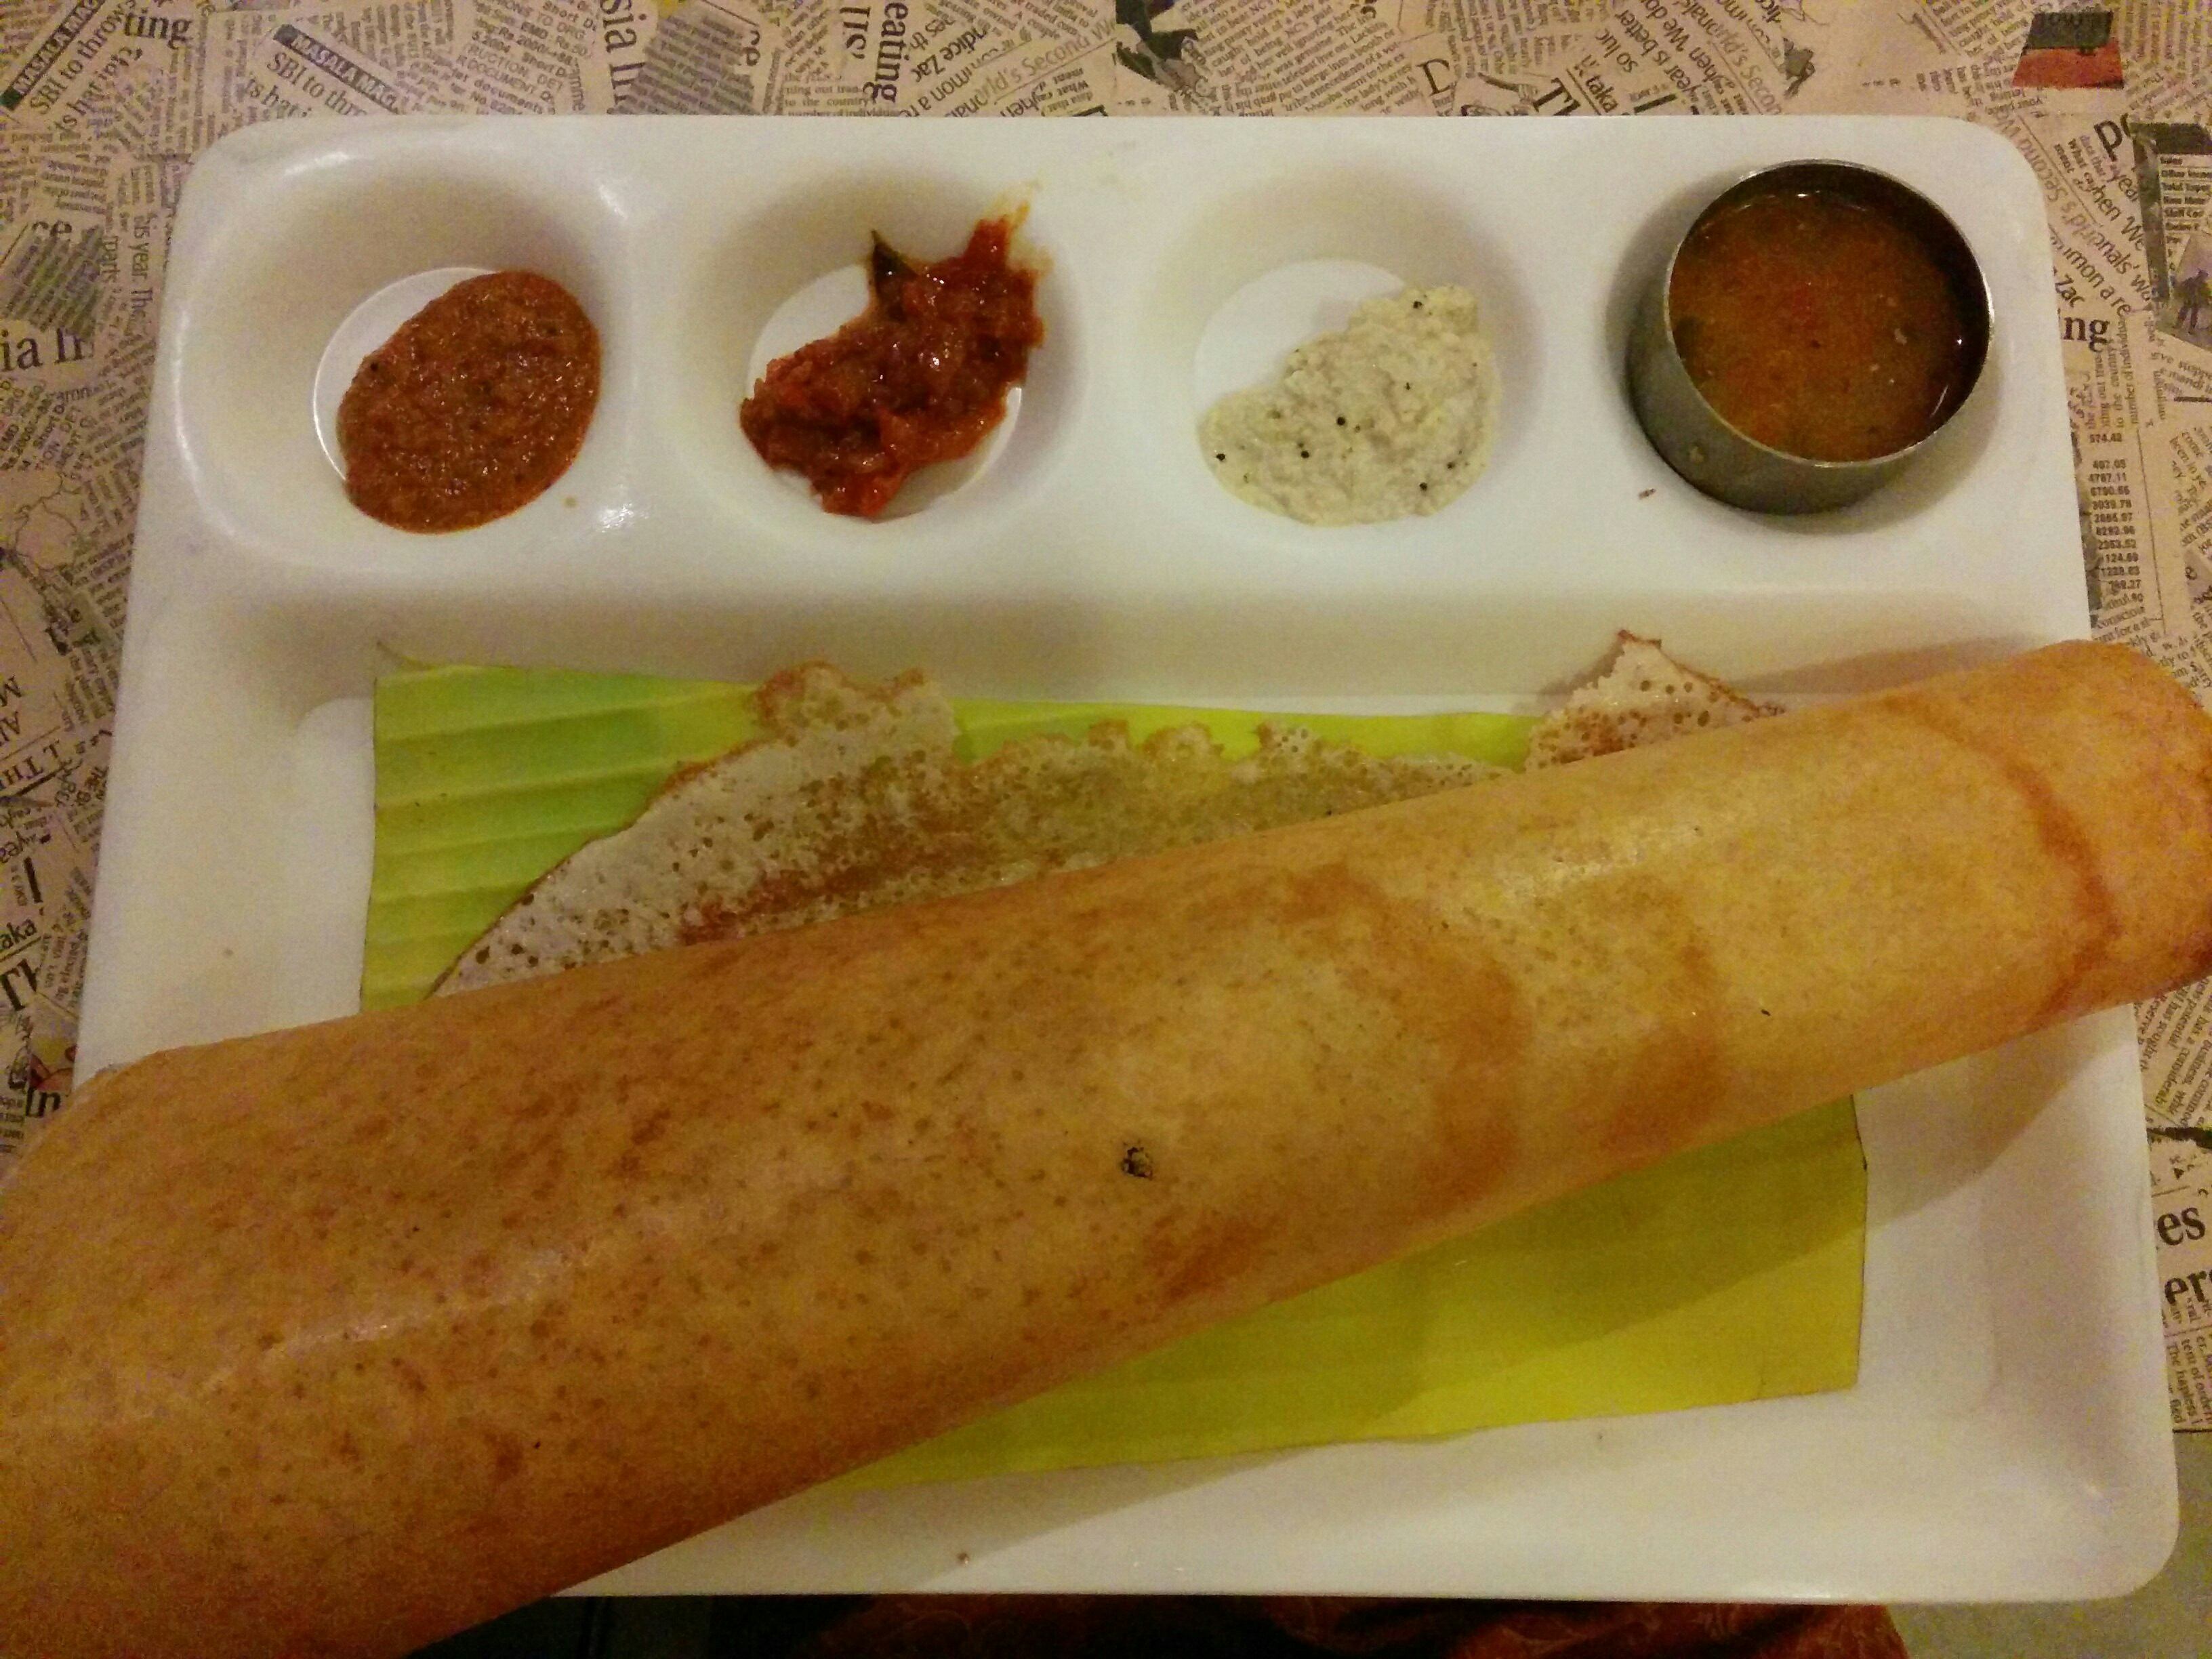dosa: (14, 613, 2212, 1657)
